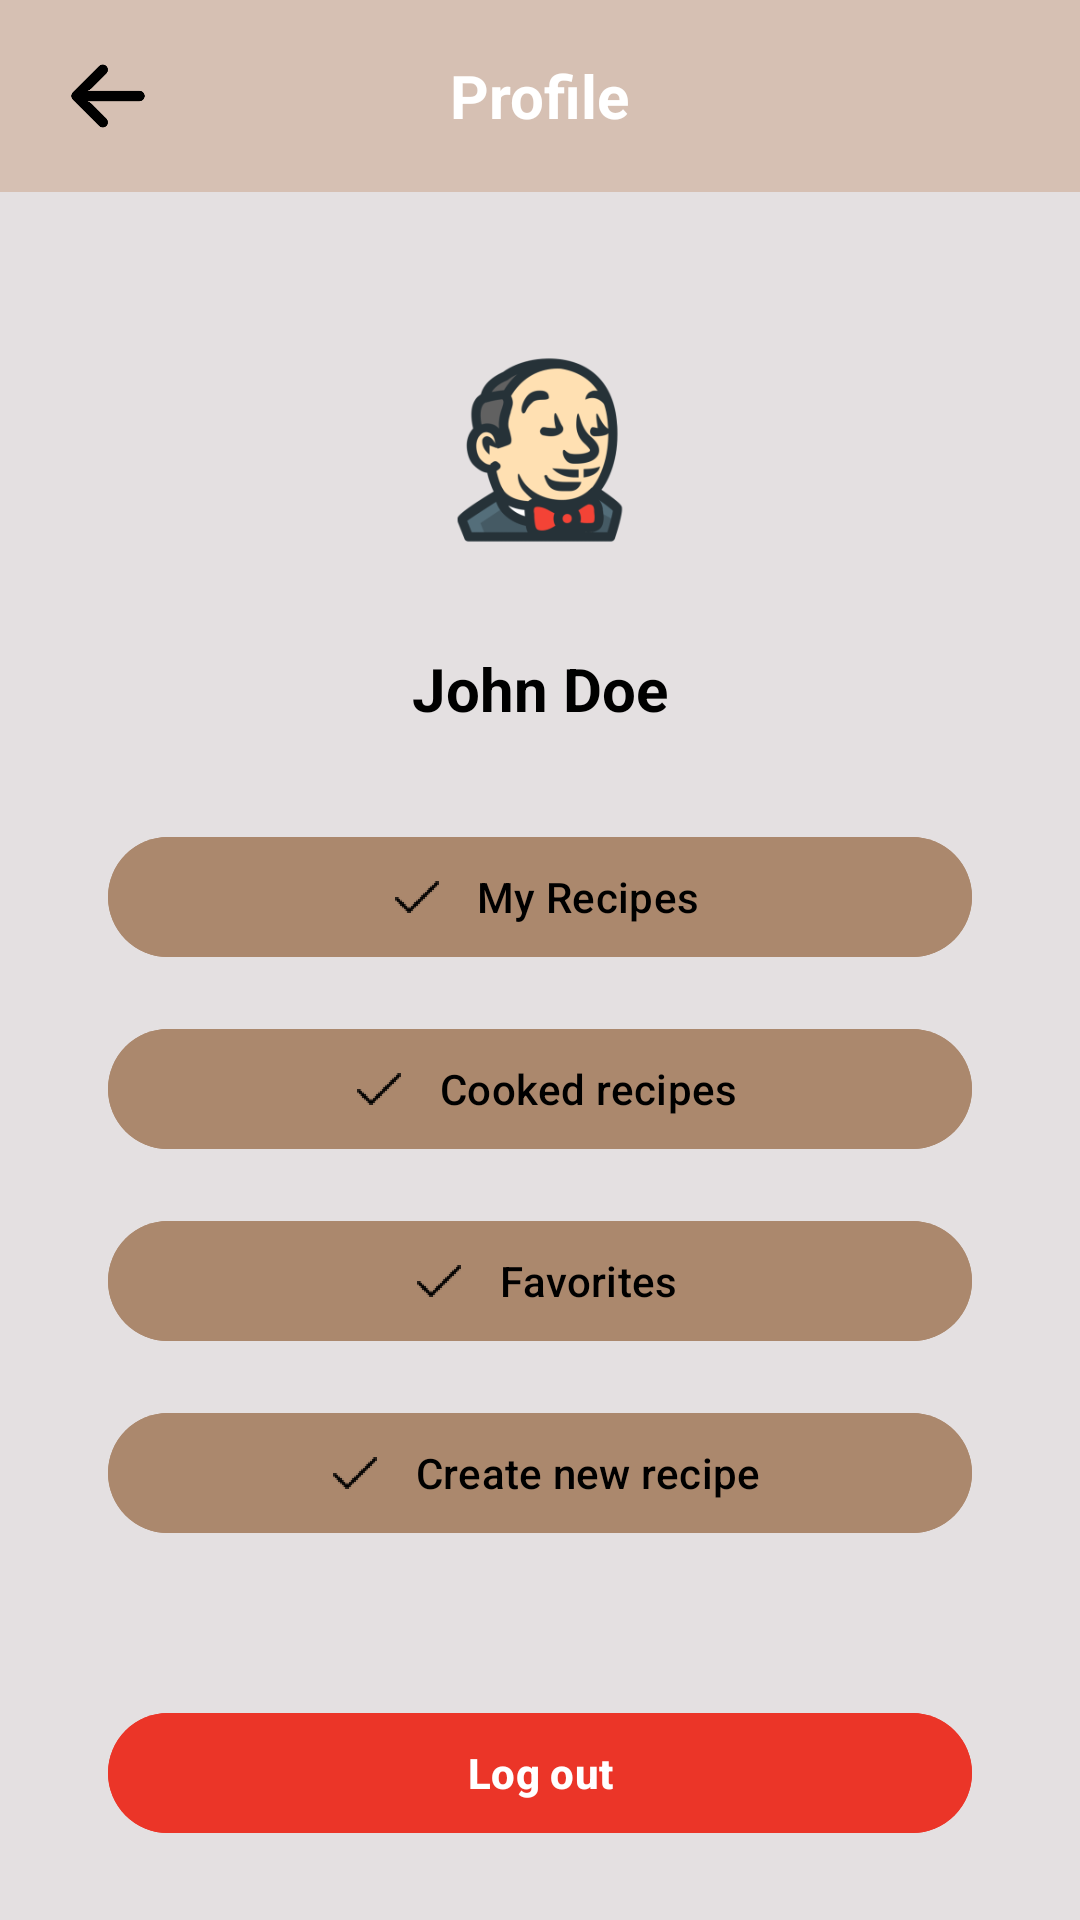

Icon click points for this 1080px x 1920px phone screenshot, format [x,y]:
arrow back: [108,96]
